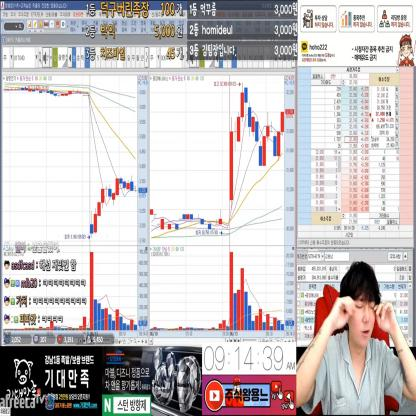streamer: (296, 262, 416, 416)
